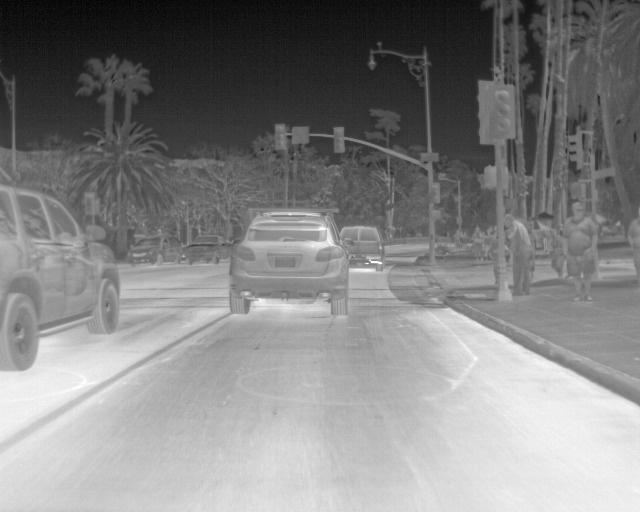bicycle: (0, 181, 124, 372), (227, 210, 351, 320), (337, 224, 385, 271), (127, 234, 183, 265), (185, 233, 233, 266)
empty: (562, 202, 598, 304), (501, 214, 535, 294), (623, 213, 638, 277), (469, 224, 487, 263)
